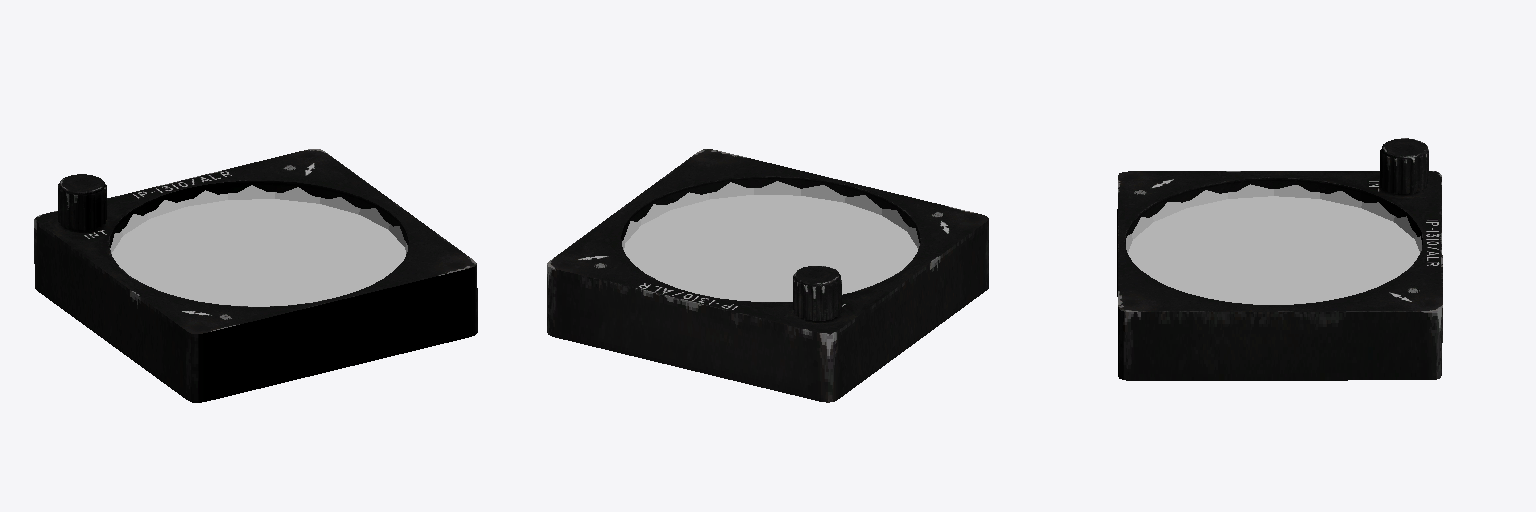
3 views of the same model, side by side, from view 1: azimuth 30°, elevation 25°; view 2: azimuth 150°, elevation 25°; view 3: azimuth 270°, elevation 25° (orthographic).
Parts seen in each view (by area): view 1: mesh_32_312.nr.032; view 2: mesh_32_312.nr.032; view 3: mesh_32_312.nr.032.
Part boxes in pixels (x1,y1,x2,y2): mesh_32_312.nr.032: (34, 149, 477, 402); mesh_32_312.nr.032: (547, 149, 988, 402); mesh_32_312.nr.032: (1117, 138, 1442, 380).
Bounding box in the file's own units: 0.2118 × 0.0762 × 0.2066.
2 materials, 1 textured.